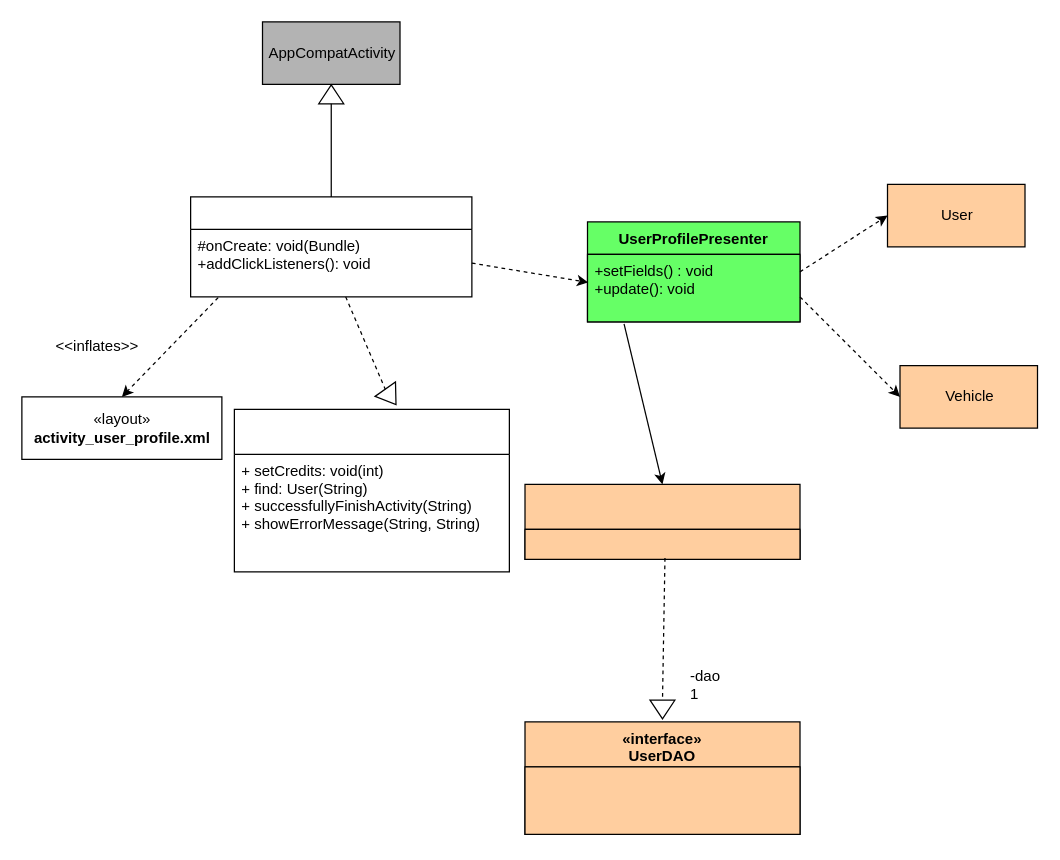
The diagram is 1060 pixels wide and 860 high, and some of its shapes have lost their labels. The shapes that lost their labels are listed below. From the top down, each one's box as (x1, y1, x2, y2) in pixels, then its label:
(189, 196, 472, 297): UserProfile
(233, 408, 509, 572): «interface» UserProfileView
(524, 483, 800, 559): UserDAOMemory
(524, 766, 800, 834): + update: void(User,String) + find: User(String)
